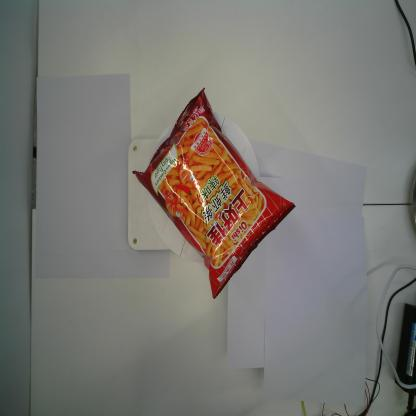Puffed Food: (131, 86, 297, 302)
